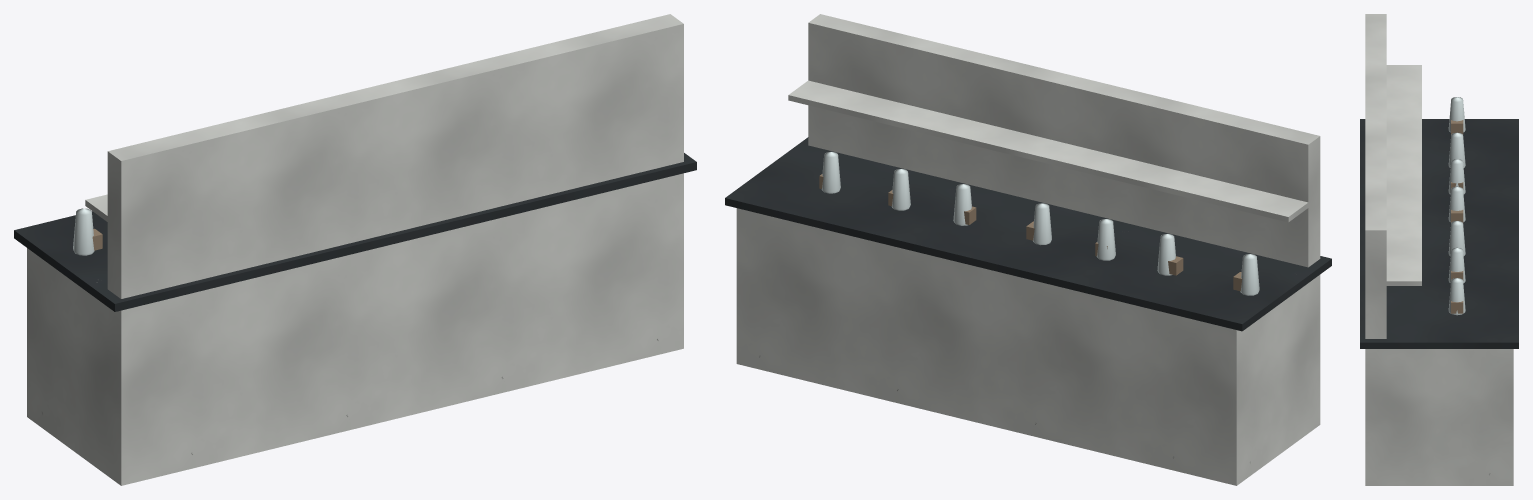
File: lab_bench.glb
3 renders of one model, left to right at view 1: azimuth 30°, elevation 25°; view 2: azimuth 150°, elevation 25°; view 3: azimuth 270°, elevation 25°, orthographic. The views are drawn at different scales.
Visible parts, largest first — view 1: lab_bench; view 2: lab_bench; view 3: lab_bench.
Part boxes in pixels (<box>): lab_bench: <box>14,14,696,485</box>; lab_bench: <box>725,14,1331,485</box>; lab_bench: <box>1360,14,1518,485</box>.
Size of the model in its own units: 3 by 1.6 by 0.9.
4 materials, 2 textured.
